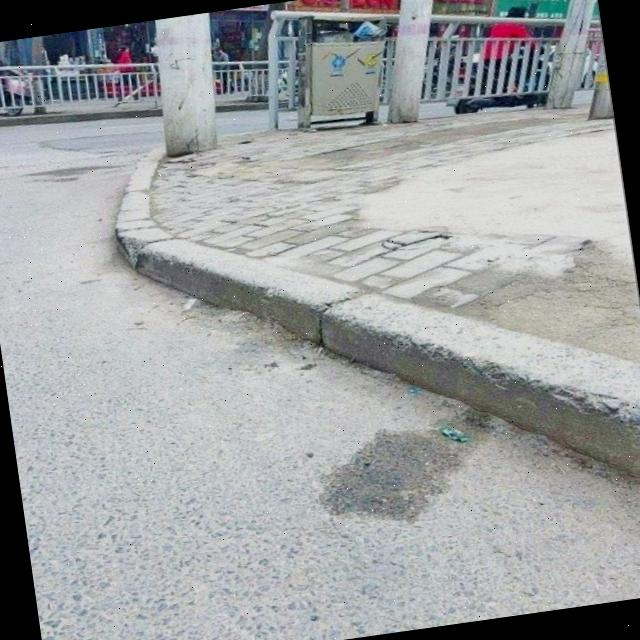curb: (116, 161, 640, 480), (0, 108, 160, 127), (219, 103, 266, 112)
